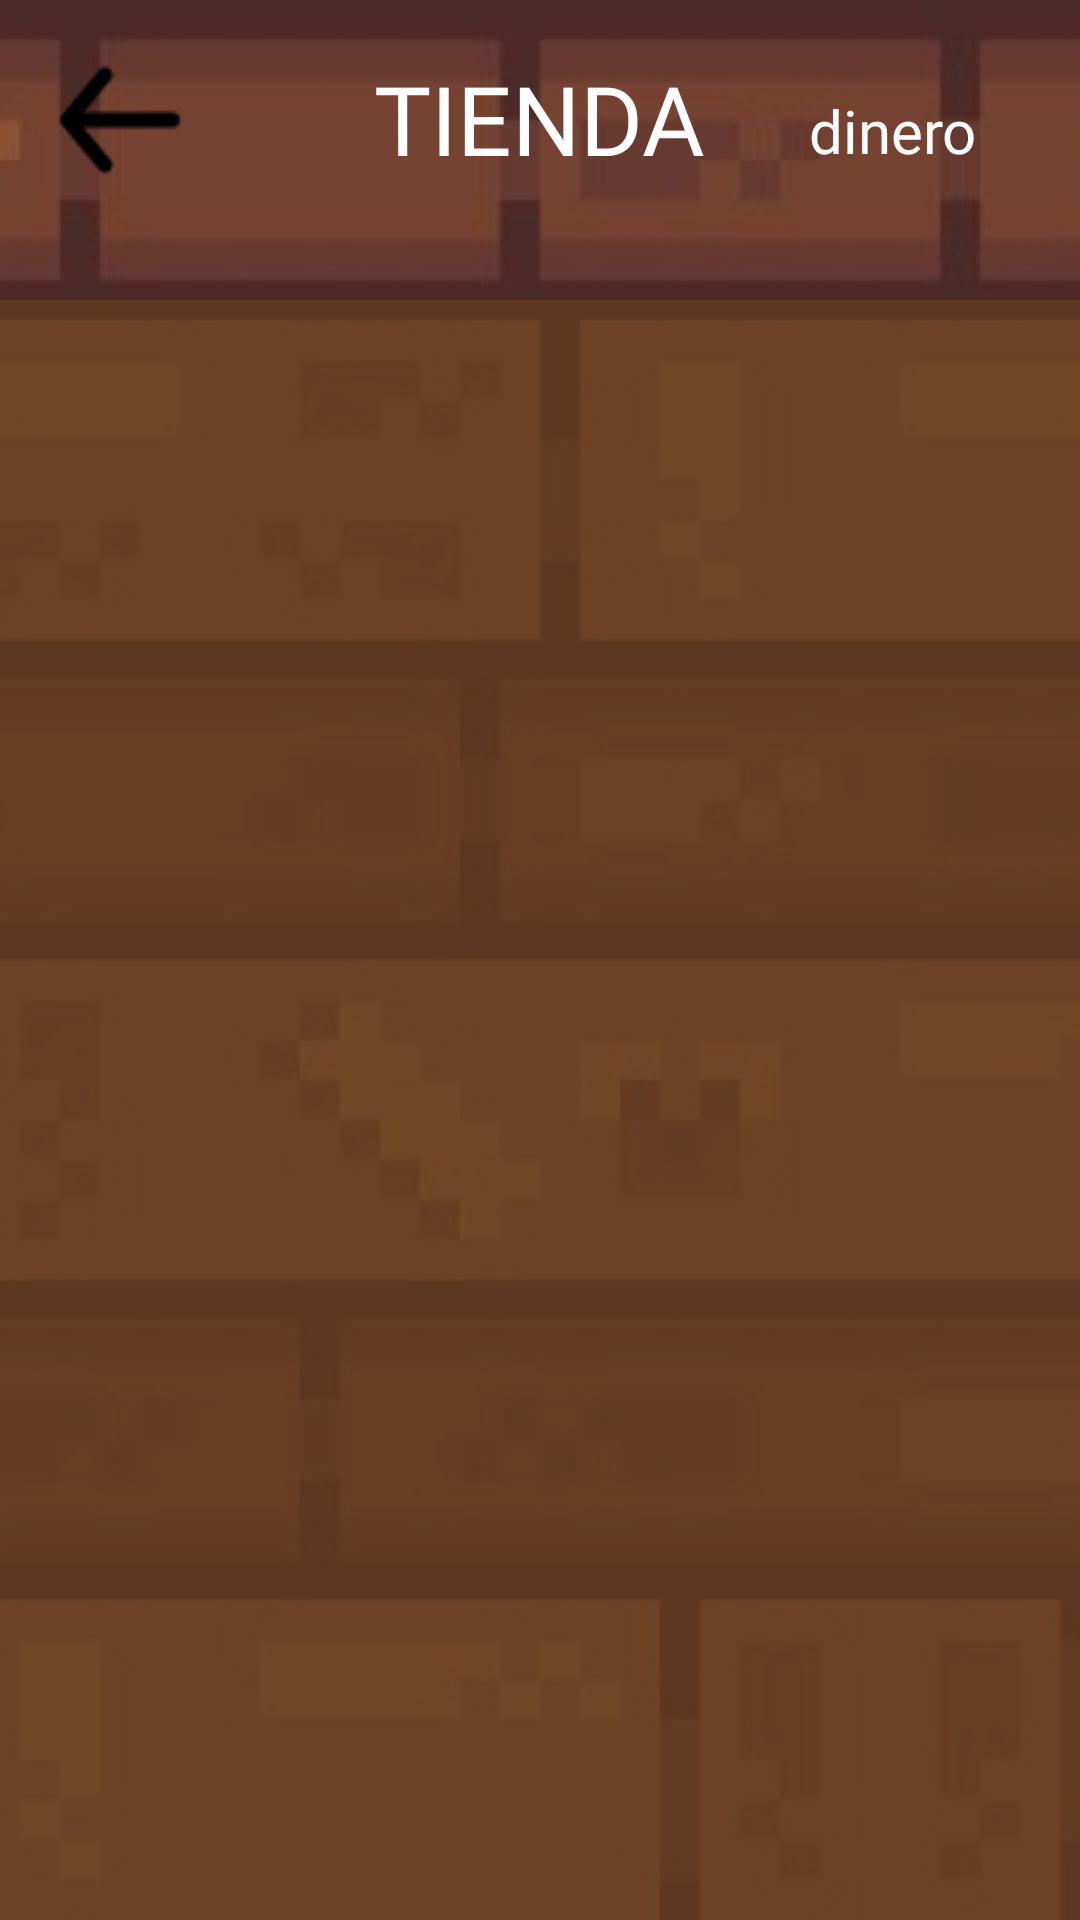

Point at icon controls on the screen. Image size 1080px x 1920px, points as (x=x, y=y).
arrow: (x=120, y=120)
